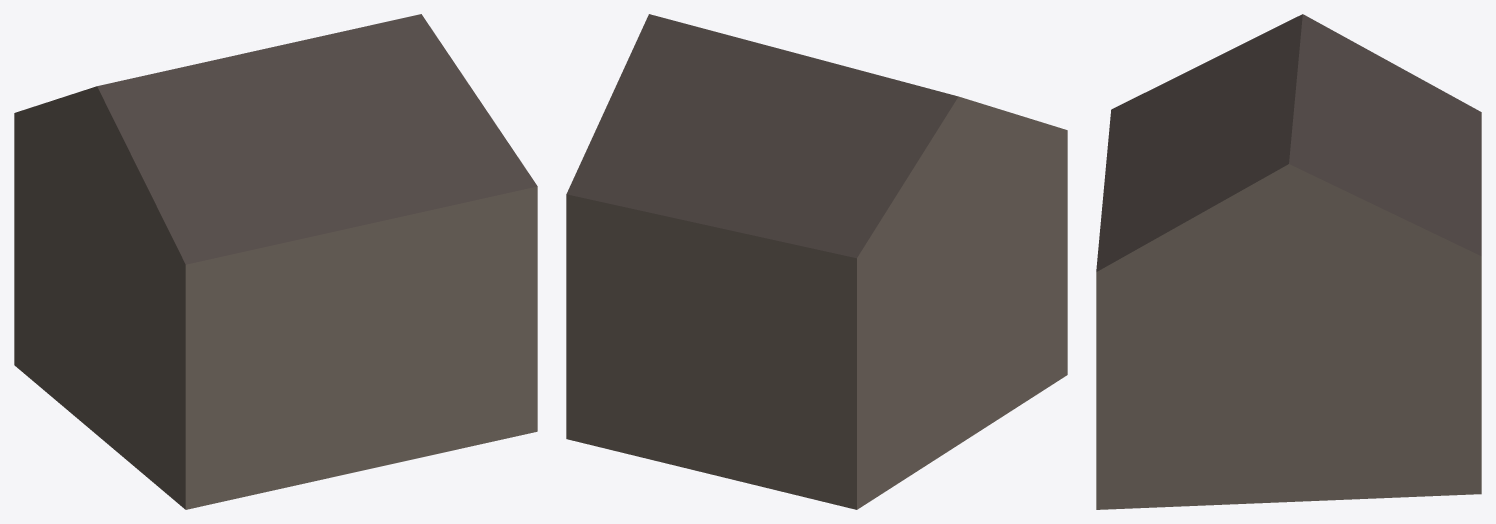
3 renders of one model, left to right at view 1: azimuth 30°, elevation 25°; view 2: azimuth 150°, elevation 25°; view 3: azimuth 270°, elevation 25°, orthographic. The views are drawn at different scales.
Parts seen in each view (by area): view 1: HP-w1198845809; view 2: HP-w1198845809; view 3: HP-w1198845809.
Boxes of the visible parts, x1,y1,x2,y2 form: HP-w1198845809: (14,14,537,509); HP-w1198845809: (566,14,1067,509); HP-w1198845809: (1096,14,1481,509).
Bounding box in the file's own units: 8.81 × 8.54 × 8.83.
